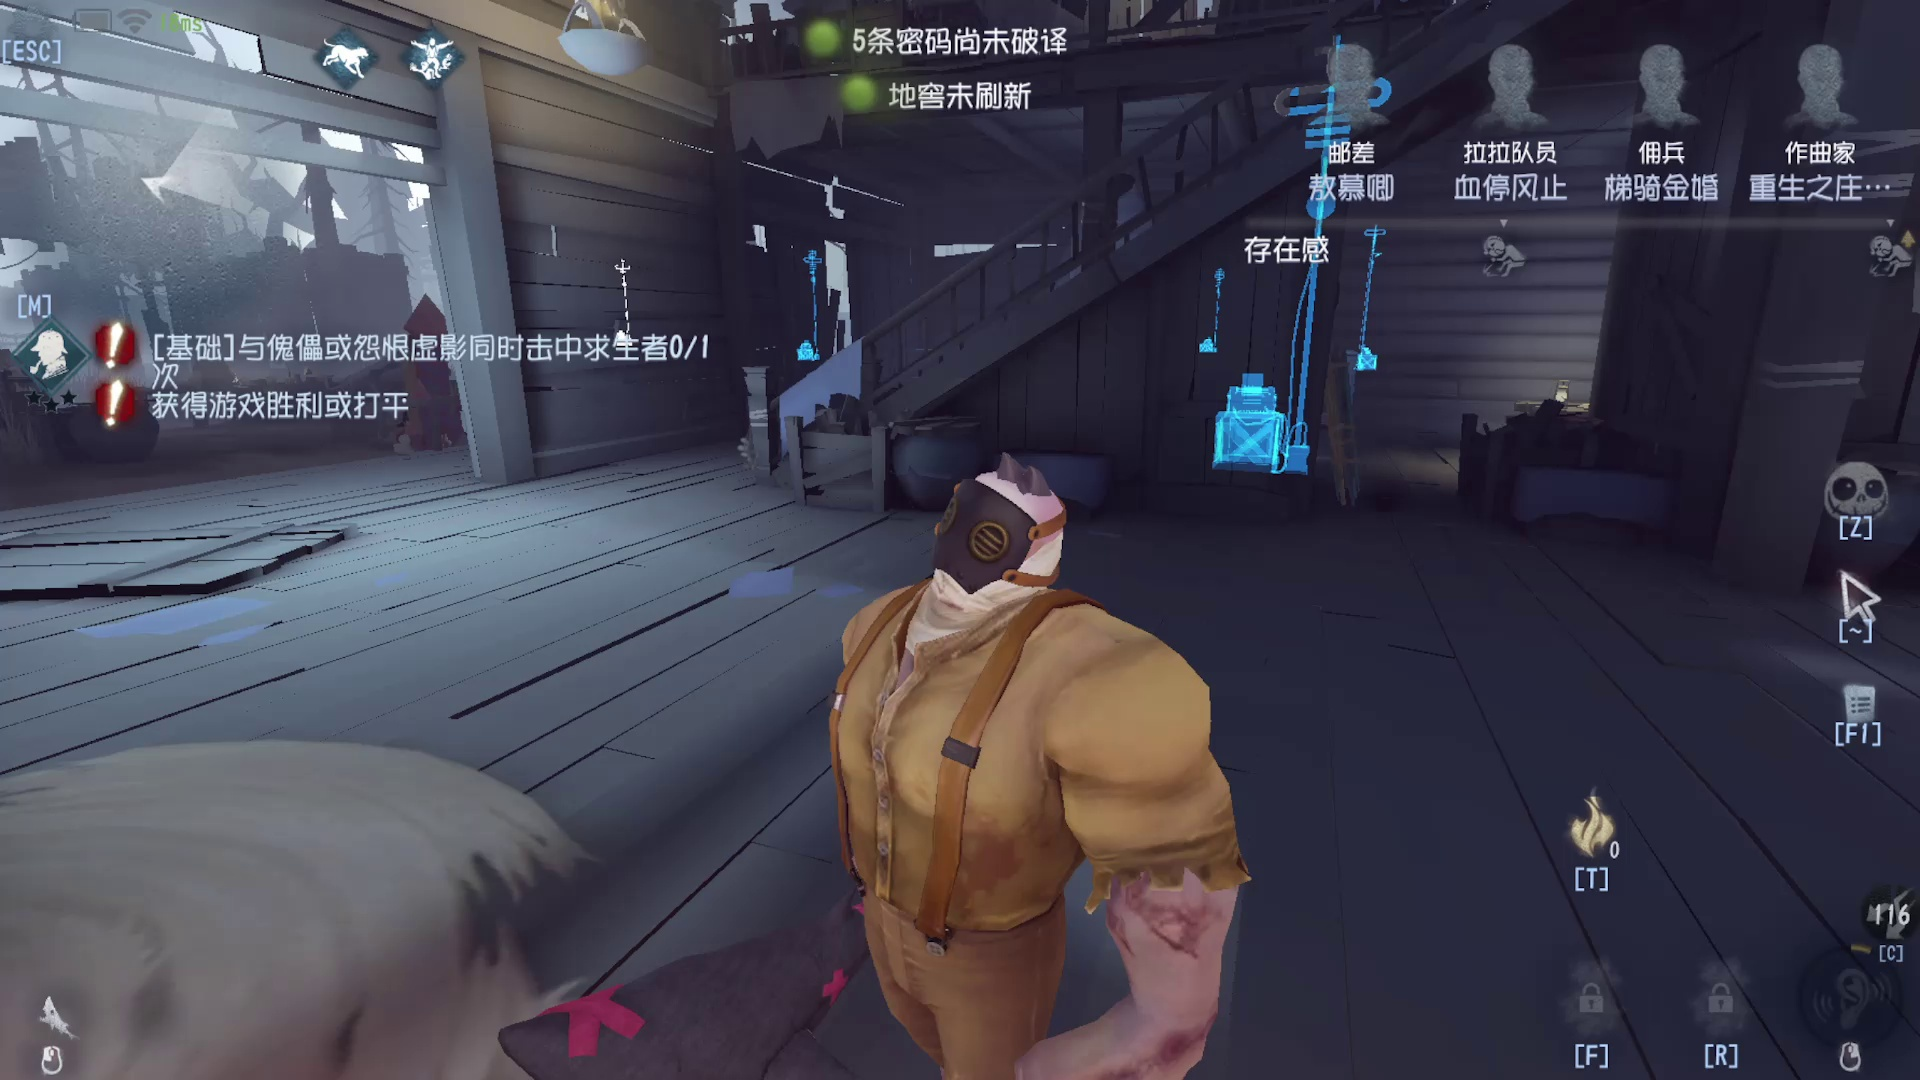密码机: (1222, 61, 1341, 498), (781, 231, 843, 407)
木板: (1323, 338, 1373, 525)
